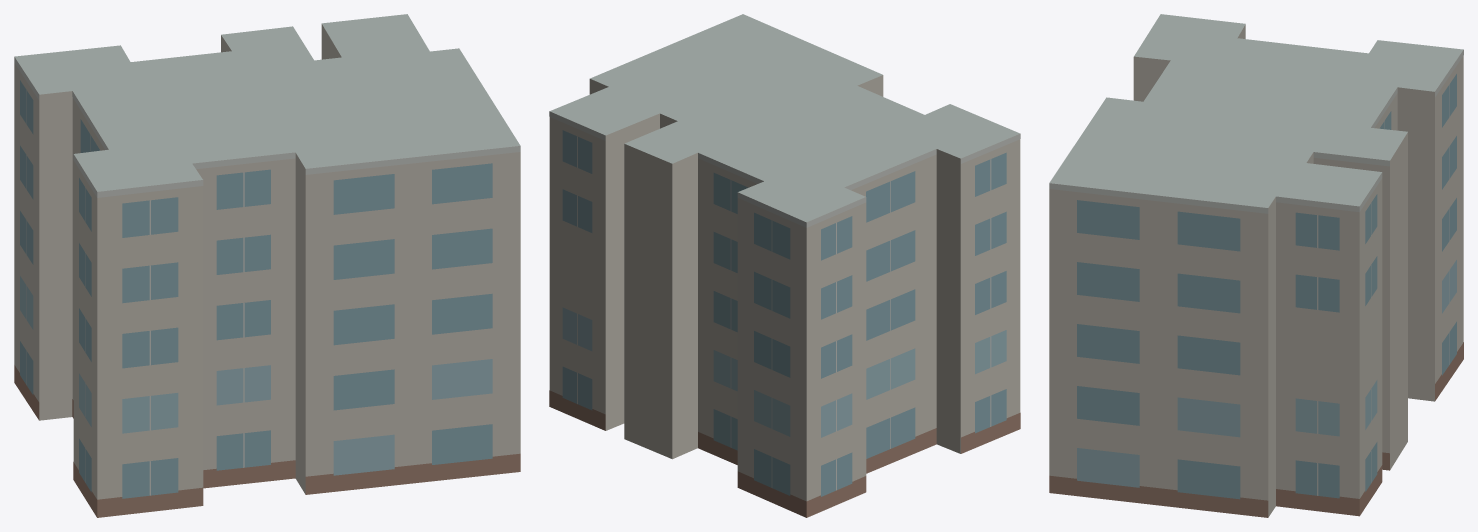
Rendered from survey-upis-32871694.glb.
The picture shows the model from 3 angles, left to right: view 1: azimuth 30°, elevation 25°; view 2: azimuth 150°, elevation 25°; view 3: azimuth 270°, elevation 25°; orthographic projection. The views are drawn at different scales.
Parts seen in each view (by area): view 1: survey-upis-32871694.tmp; view 2: survey-upis-32871694.tmp; view 3: survey-upis-32871694.tmp.
Boxes of the visible parts, x1,y1,x2,y2 form: survey-upis-32871694.tmp: (14,14,520,517); survey-upis-32871694.tmp: (549,14,1020,517); survey-upis-32871694.tmp: (1049,14,1463,517).
Bounding box in the file's own units: 17.61 × 13.1 × 15.9.
